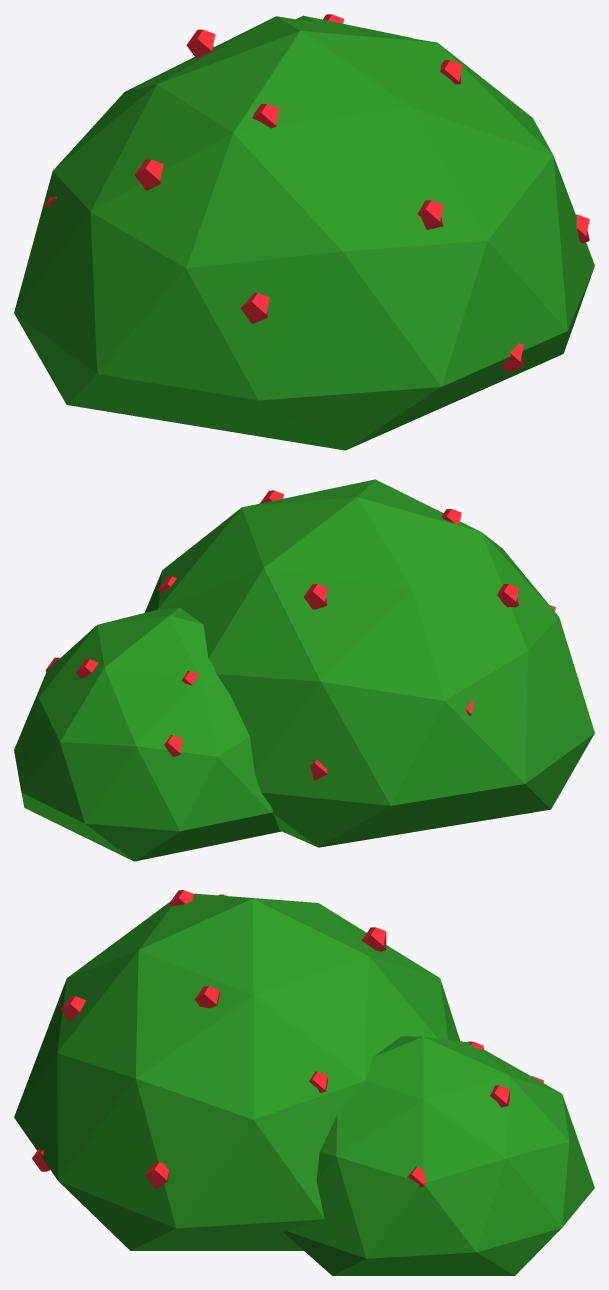
The model's file is RedBerryBush.fbx.
3 views of the same model, one above another, from view 1: azimuth 30°, elevation 25°; view 2: azimuth 150°, elevation 25°; view 3: azimuth 270°, elevation 25° (orthographic). The views are drawn at different scales.
Visible parts, largest first — view 1: RedBerry; view 2: RedBerry; view 3: RedBerry.
Part boxes in pixels (x1,y1,x2,y2): RedBerry: (14, 14, 594, 450); RedBerry: (14, 479, 594, 861); RedBerry: (14, 890, 594, 1275).
Bounding box in the file's own units: 225 × 131 × 252.
